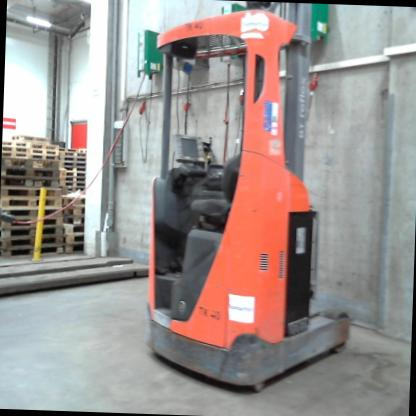forklift: (139, 0, 373, 407)
pallet: (0, 233, 63, 253), (1, 195, 63, 214), (0, 244, 68, 261), (0, 214, 63, 232), (0, 224, 63, 242), (1, 176, 61, 190), (2, 208, 64, 221), (1, 158, 63, 170), (1, 168, 61, 179), (0, 187, 63, 197), (59, 206, 90, 217), (29, 139, 60, 150), (28, 145, 59, 156), (62, 243, 88, 256), (59, 231, 87, 243), (62, 195, 90, 207), (58, 225, 86, 236), (3, 138, 31, 149), (12, 134, 50, 142), (59, 216, 87, 226), (62, 186, 88, 195), (29, 153, 60, 160), (3, 151, 28, 159), (59, 150, 87, 157), (64, 175, 88, 183), (60, 156, 87, 163), (59, 162, 88, 168), (3, 146, 30, 152), (64, 182, 88, 187), (64, 167, 88, 172), (64, 172, 88, 176)
